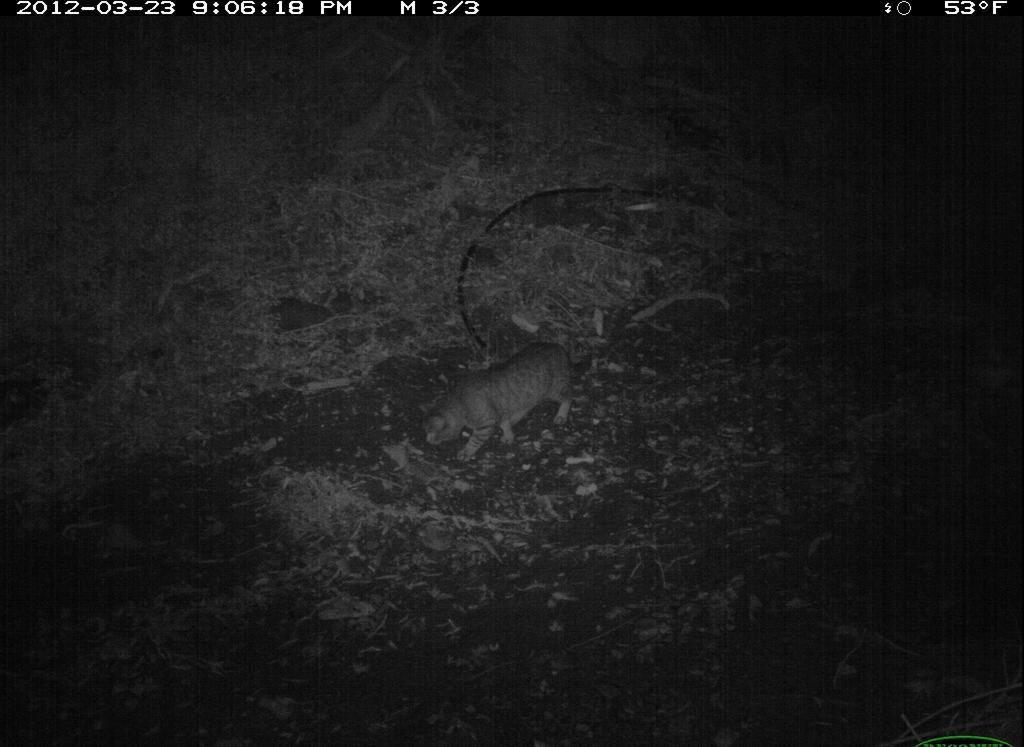cat: (415, 327, 593, 469)
